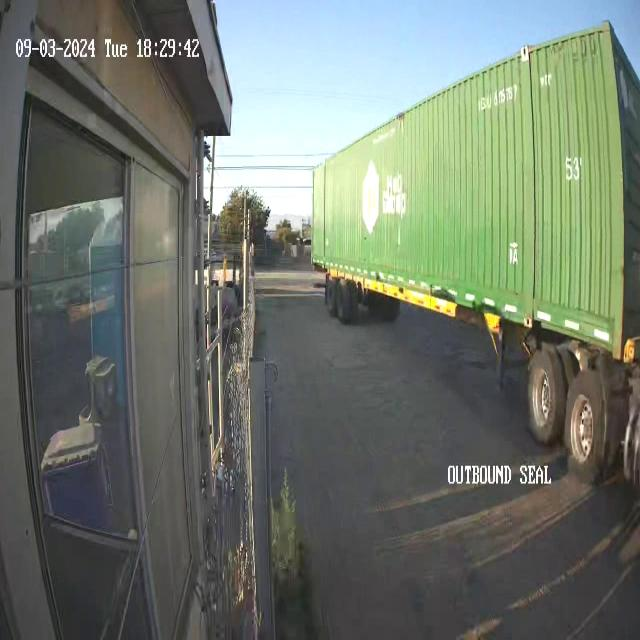CONTAINER: (311, 19, 639, 357)
